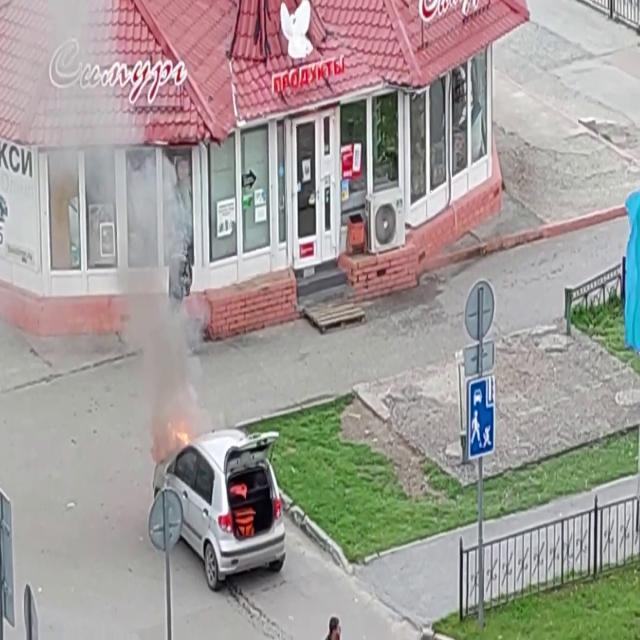Smoke: (114, 145, 210, 447)
